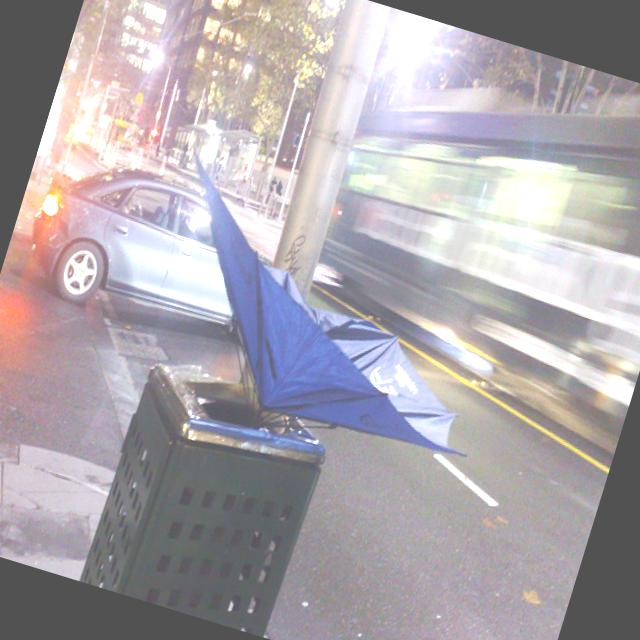Vehicle: (14, 142, 272, 350)
